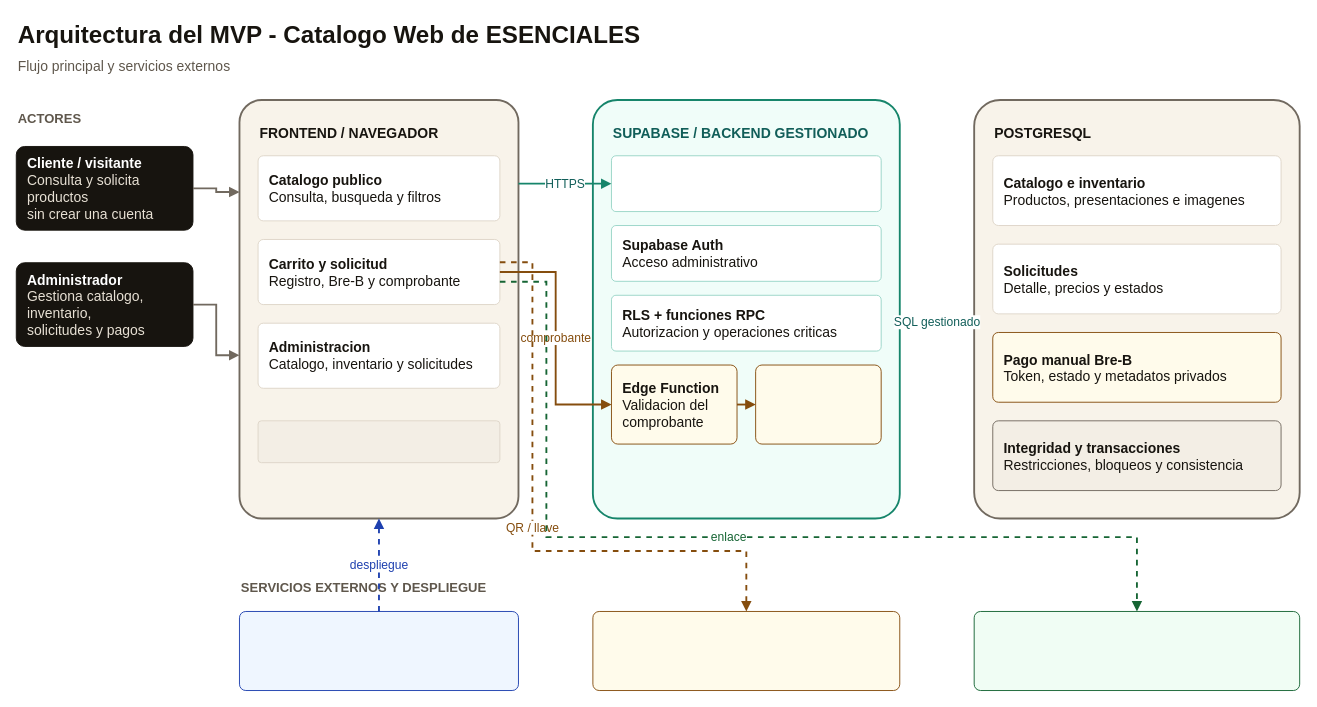
Image size: 1317x707. Some labels were removed from this diagram. The shapes that lost their labels are listed below. From the top down, each one's centre as x and y in pixels, then its label:
the point at 746,183: Data API Acceso HTTPS desde el frontend
the point at 818,404: Storage Imagenes y comprobantes privados
the point at 378,441: Vite | HTML | CSS | JavaScript
the point at 378,651: GitHub Pages Publica el frontend estatico
the point at 746,651: Bre-B / aplicacion bancaria Transferencia manual externa
the point at 1136,651: WhatsApp Continuacion comercial voluntaria
